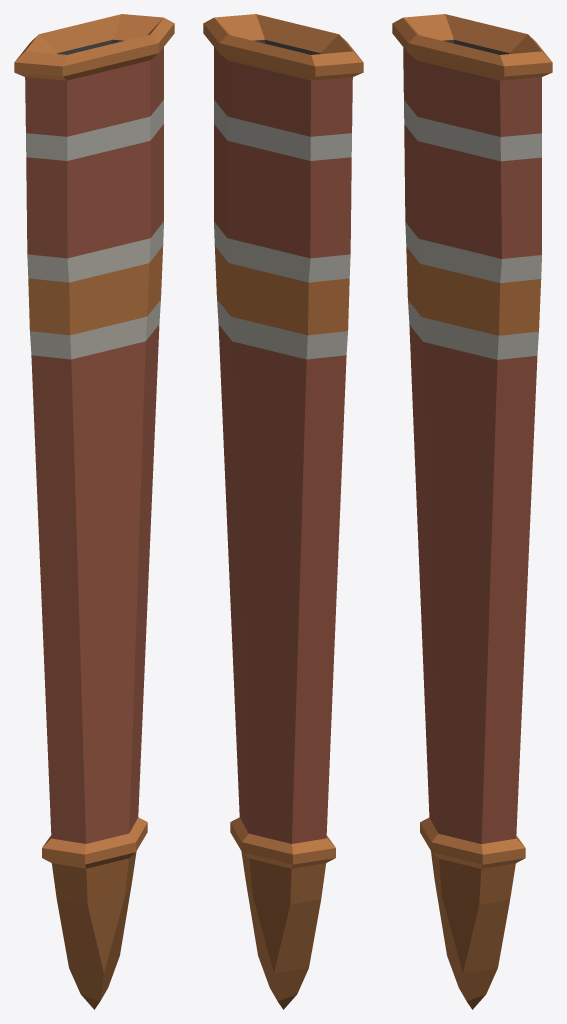
Rendered from SM_pwe_rome_sword_scabbard_04.fbx.
The picture shows the model from 3 angles, left to right: view 1: azimuth 30°, elevation 25°; view 2: azimuth 150°, elevation 25°; view 3: azimuth 330°, elevation 25°; orthographic projection.
Visible parts, largest first — view 1: SM_pwe_rome_sword_scabbard_04; view 2: SM_pwe_rome_sword_scabbard_04; view 3: SM_pwe_rome_sword_scabbard_04.
Part boxes in pixels (x1,y1,x2,y2): SM_pwe_rome_sword_scabbard_04: (14, 14, 174, 1009); SM_pwe_rome_sword_scabbard_04: (203, 14, 363, 1009); SM_pwe_rome_sword_scabbard_04: (392, 14, 552, 1009).
Size of the model in its own units: 9.6 by 55.91 by 3.38.
